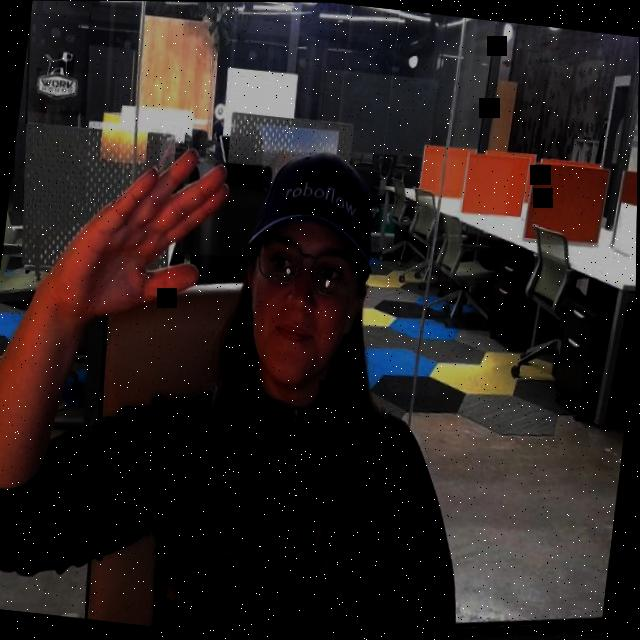Paper: (59, 113, 243, 326)
